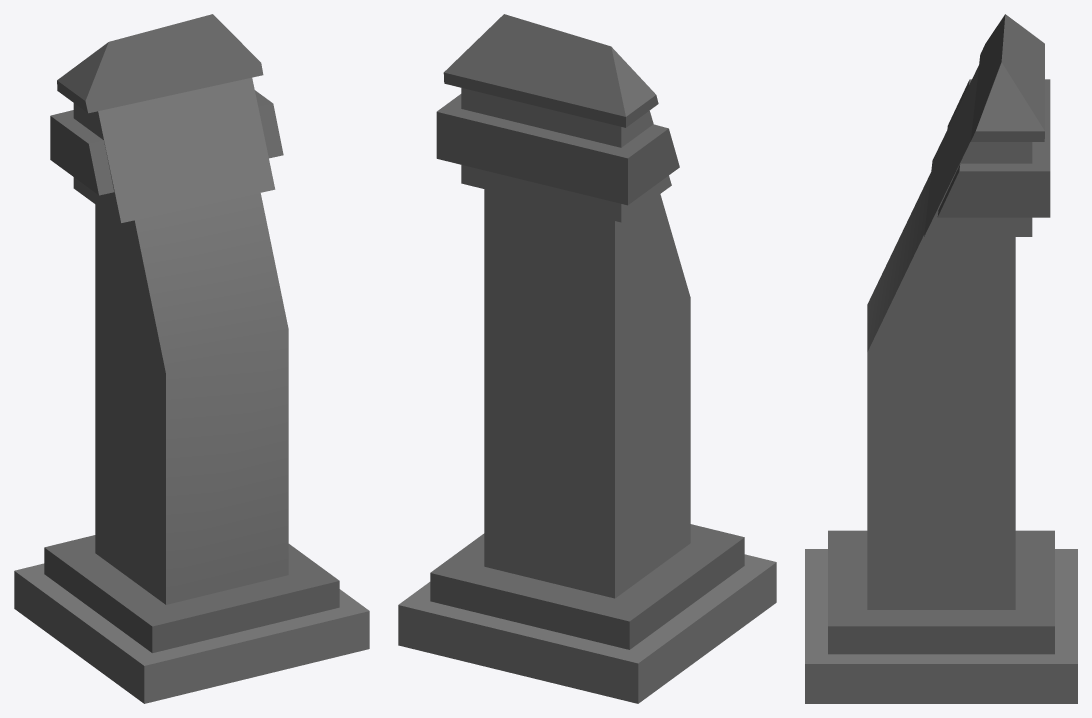
Rendered from small_column2.fbx.
3 renders of one model, left to right at view 1: azimuth 30°, elevation 25°; view 2: azimuth 150°, elevation 25°; view 3: azimuth 270°, elevation 25°, orthographic. The views are drawn at different scales.
Visible parts, largest first — view 1: small_column2; view 2: small_column2; view 3: small_column2.
Part boxes in pixels (left/top/right/bottom): small_column2: left=14, top=14, right=369, bottom=703; small_column2: left=398, top=14, right=776, bottom=703; small_column2: left=805, top=14, right=1077, bottom=703.
Bounding box in the file's own units: 108 × 266 × 108.
